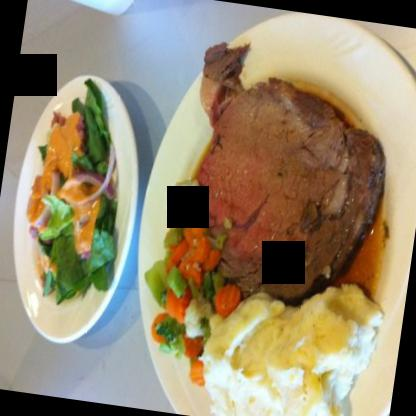beef: (179, 44, 398, 302)
